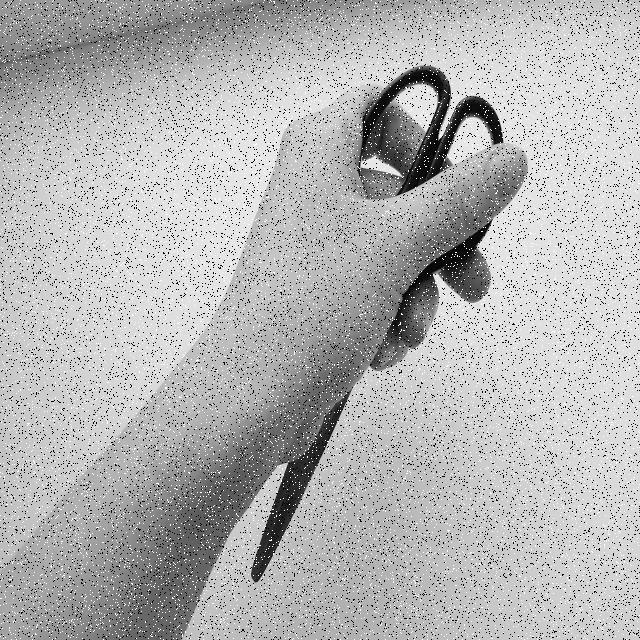scissors: (245, 56, 512, 588)
